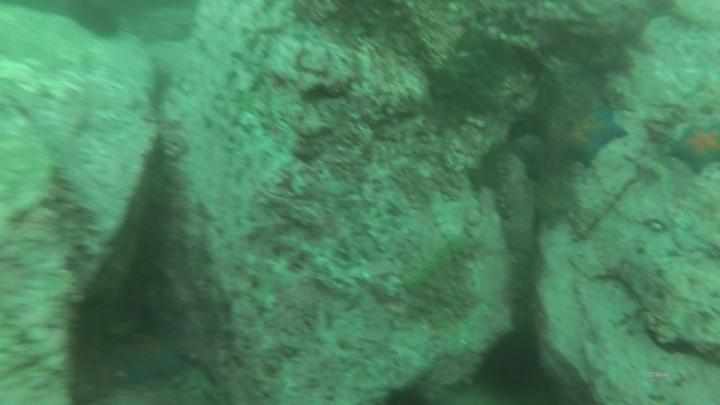echinus: (488, 335, 537, 395)
holothurian: (410, 232, 478, 291)
starfish: (568, 109, 628, 167), (106, 338, 185, 382), (674, 125, 720, 174), (535, 189, 567, 227)
